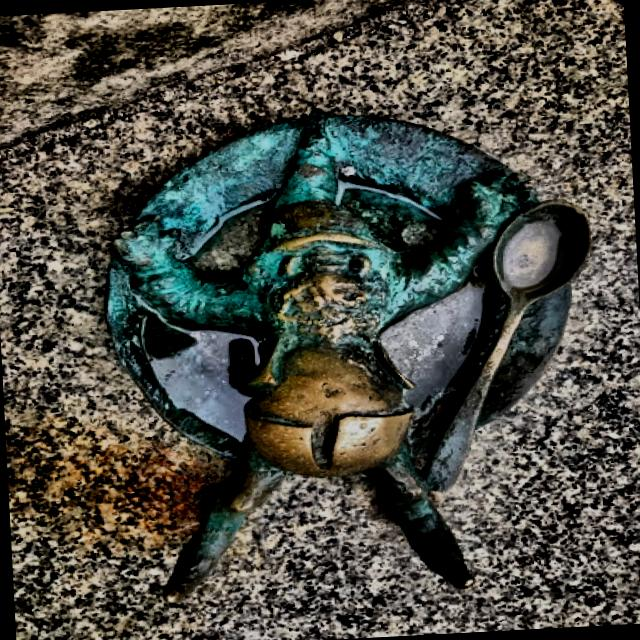Obiezysmak: (104, 113, 588, 599)
